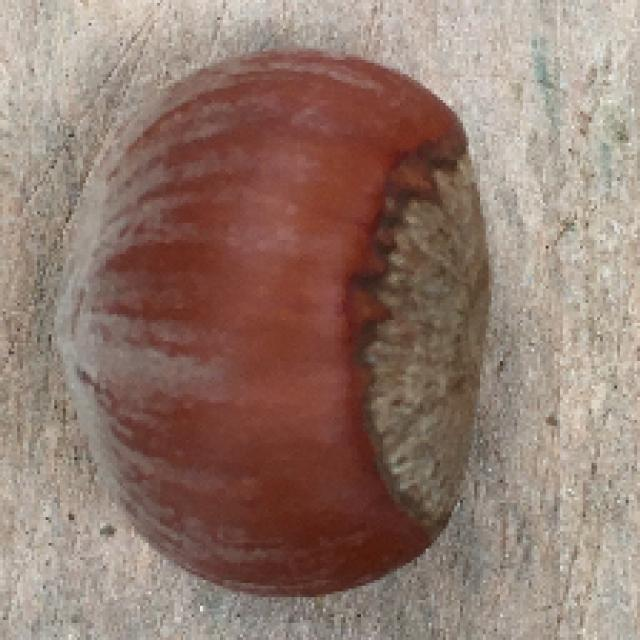qualityHazelnut: (55, 48, 490, 598)
